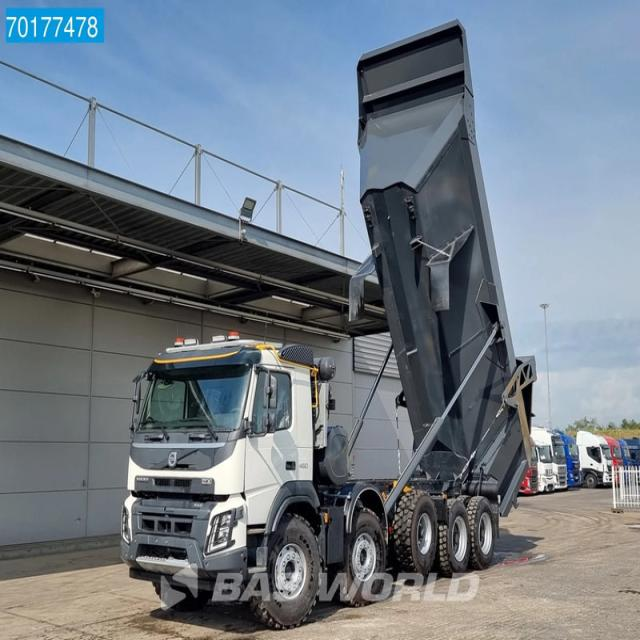dump_truck: (82, 4, 541, 619), (580, 426, 615, 493), (529, 424, 561, 495), (557, 428, 585, 492)
